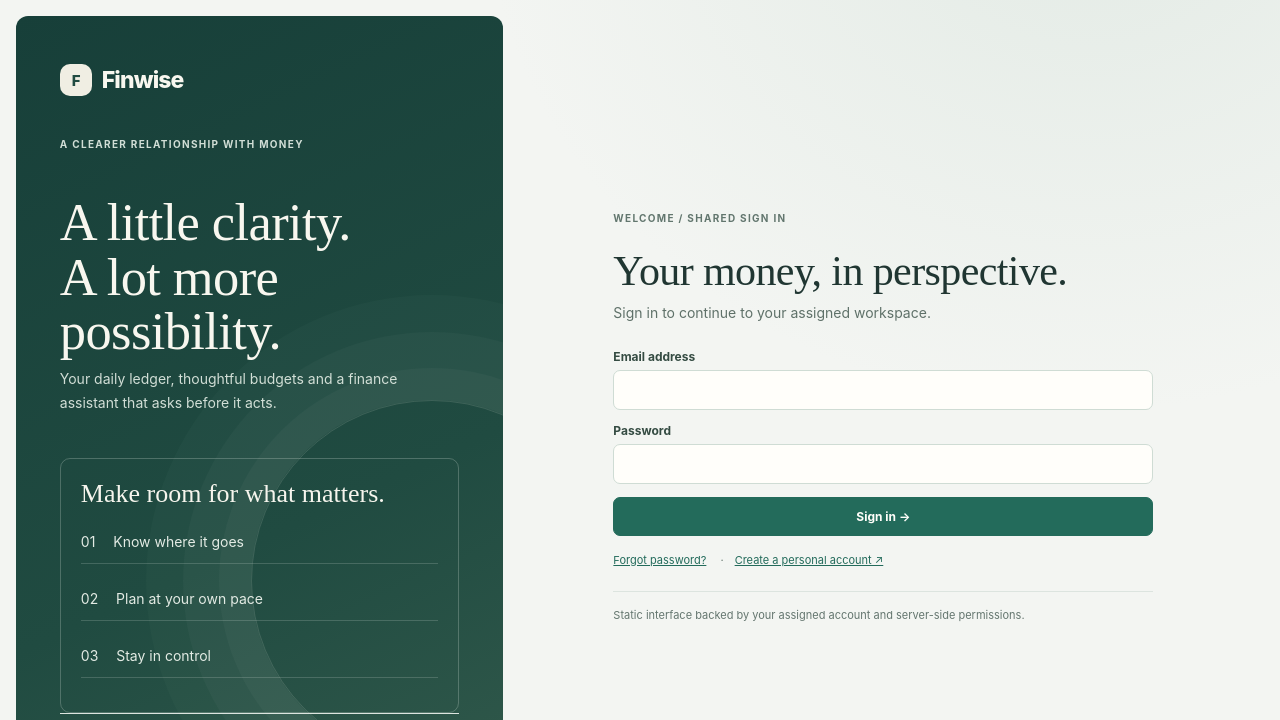
it: Finwise key views › shows the server's rate-limit message on sign in without navigating
Type "a@example.invalid" into the field labelled "Email address".
click(883, 390); type("a@example.invalid")  # box [613,370,1153,410]
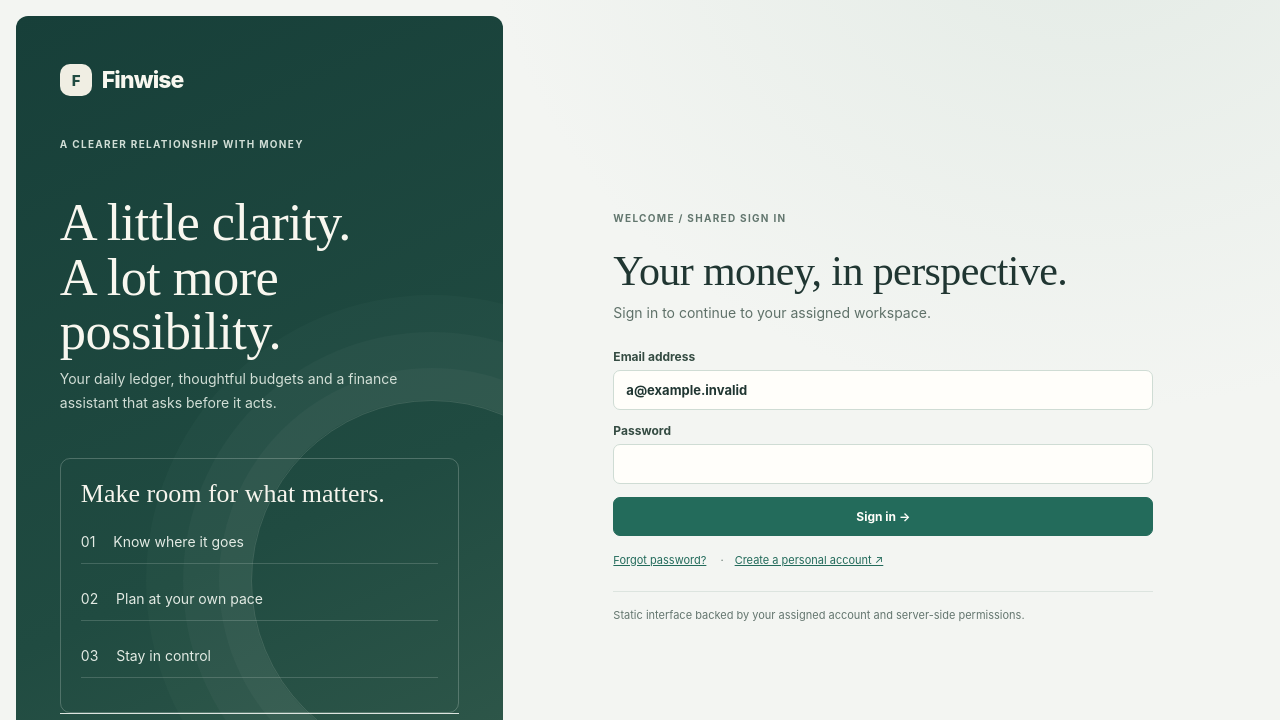
Type "pw" into the password field labelled "Password".
click(883, 464); type("pw")  # box [613,444,1153,484]
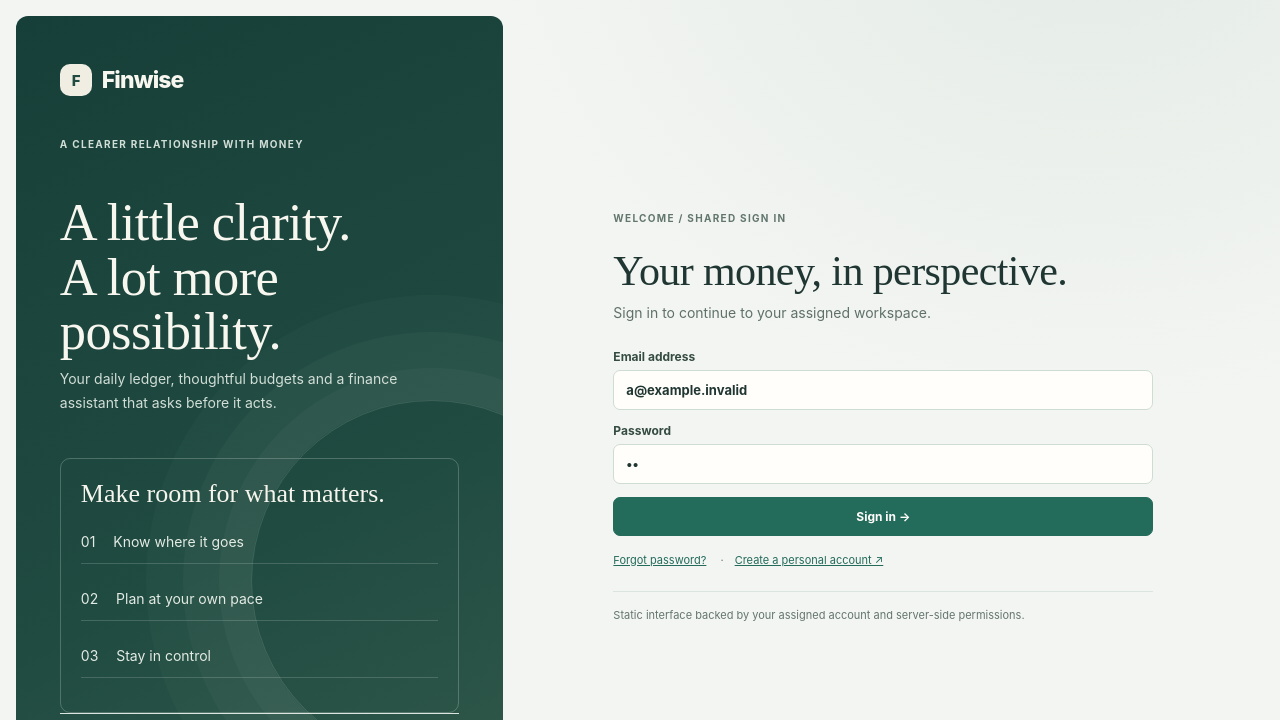
Click the button "Sign in →".
click(883, 516)  # box [613,497,1153,536]
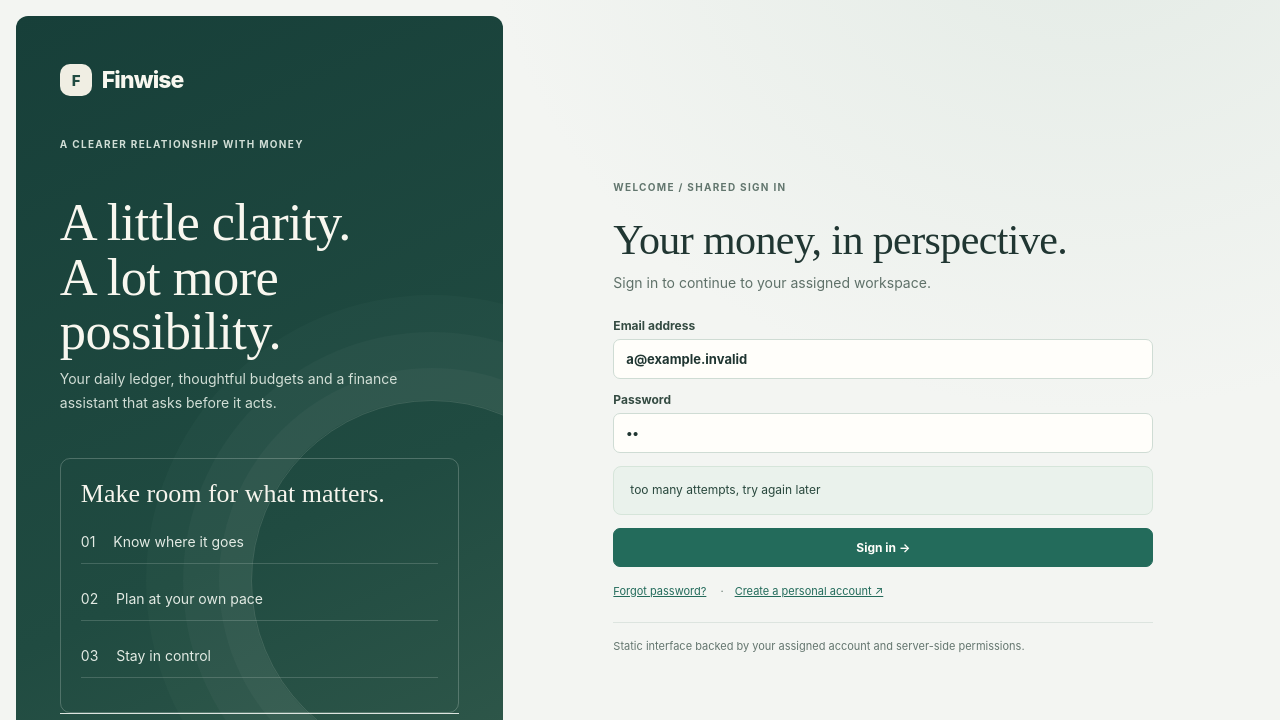
Expected: the message shows "too many attempts", [630,482,820,497]
